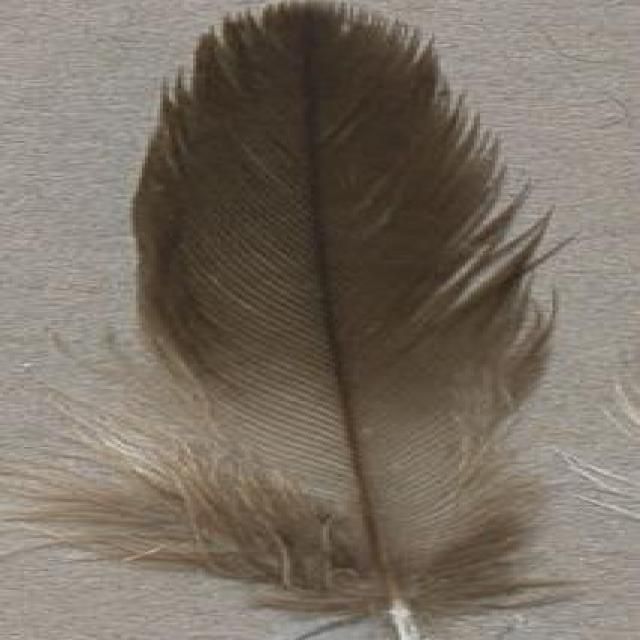feather: (33, 0, 589, 640)
